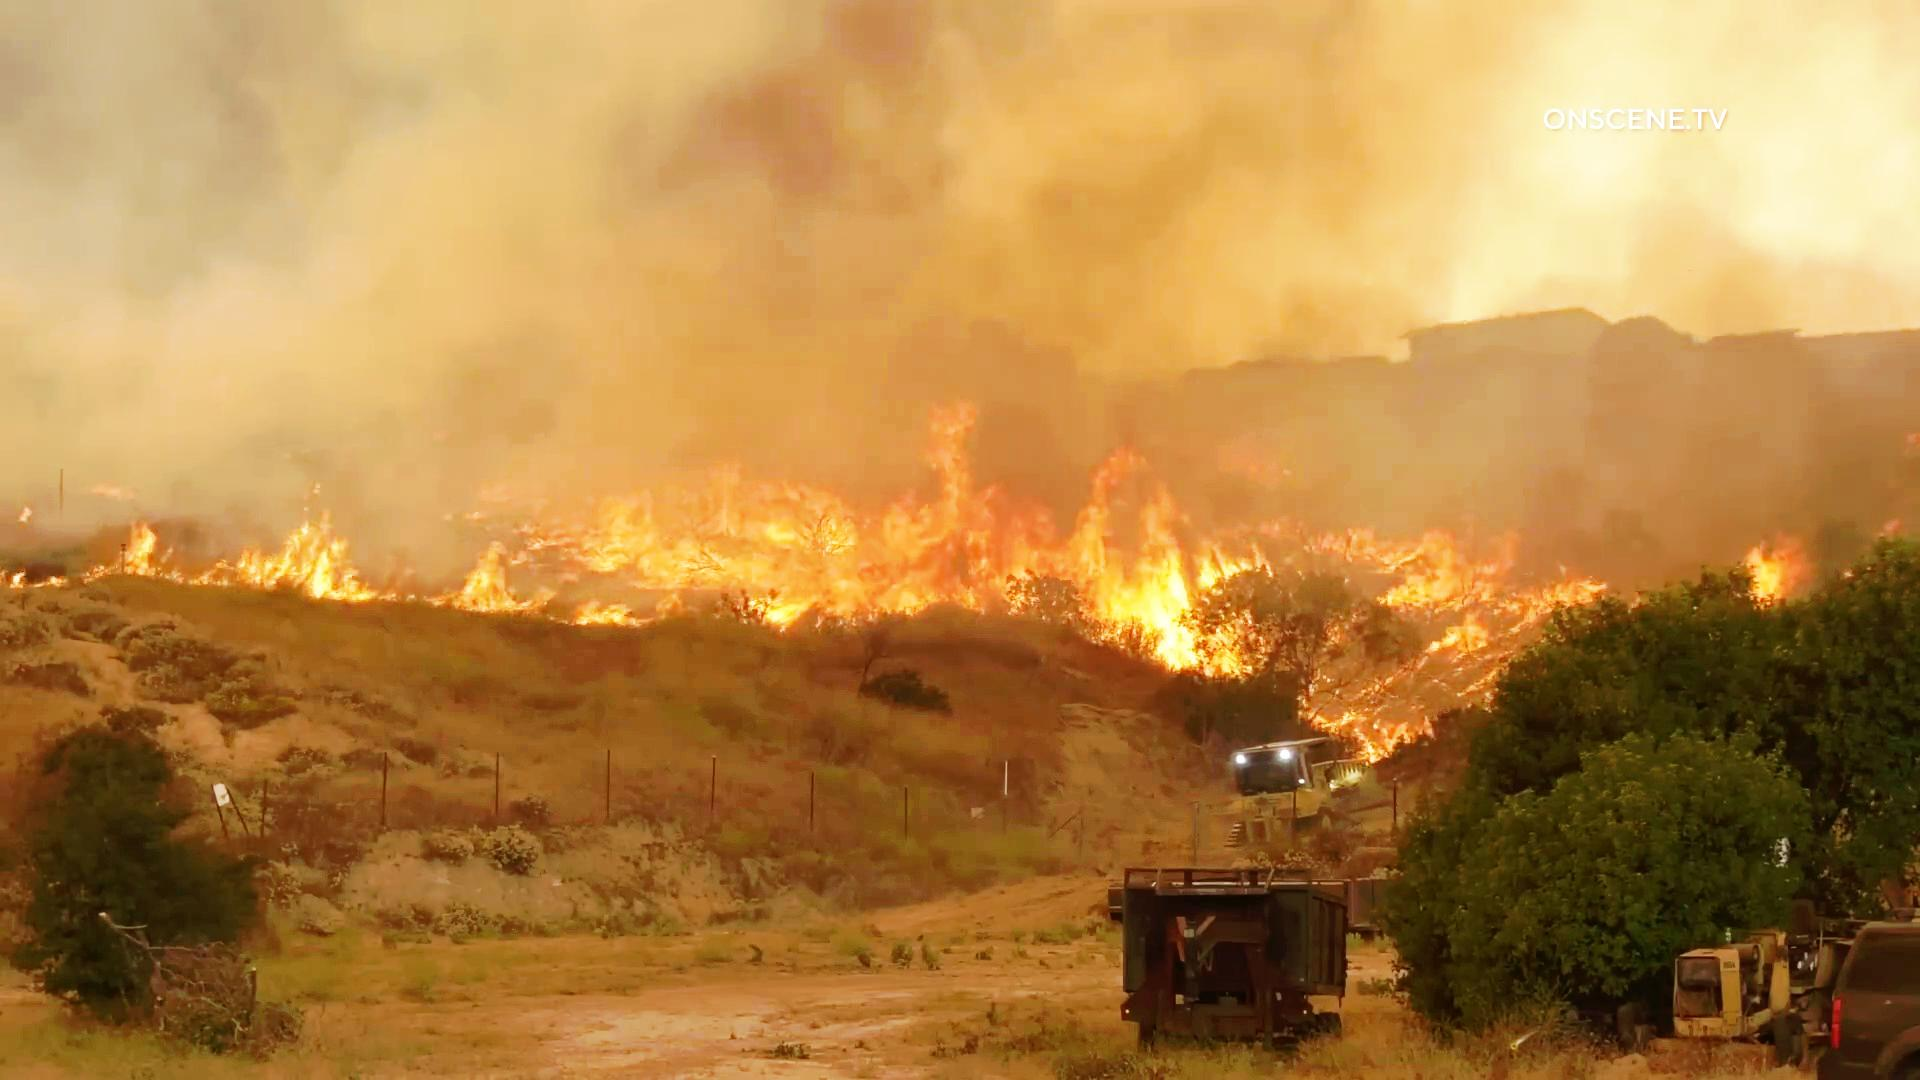fire: (1085, 477, 1311, 700), (890, 398, 1087, 638), (1348, 508, 1571, 692), (566, 451, 833, 600), (240, 493, 371, 612), (433, 538, 525, 637), (100, 516, 179, 599), (1746, 538, 1825, 603)
smoke: (1055, 22, 1364, 369), (644, 53, 993, 340)
